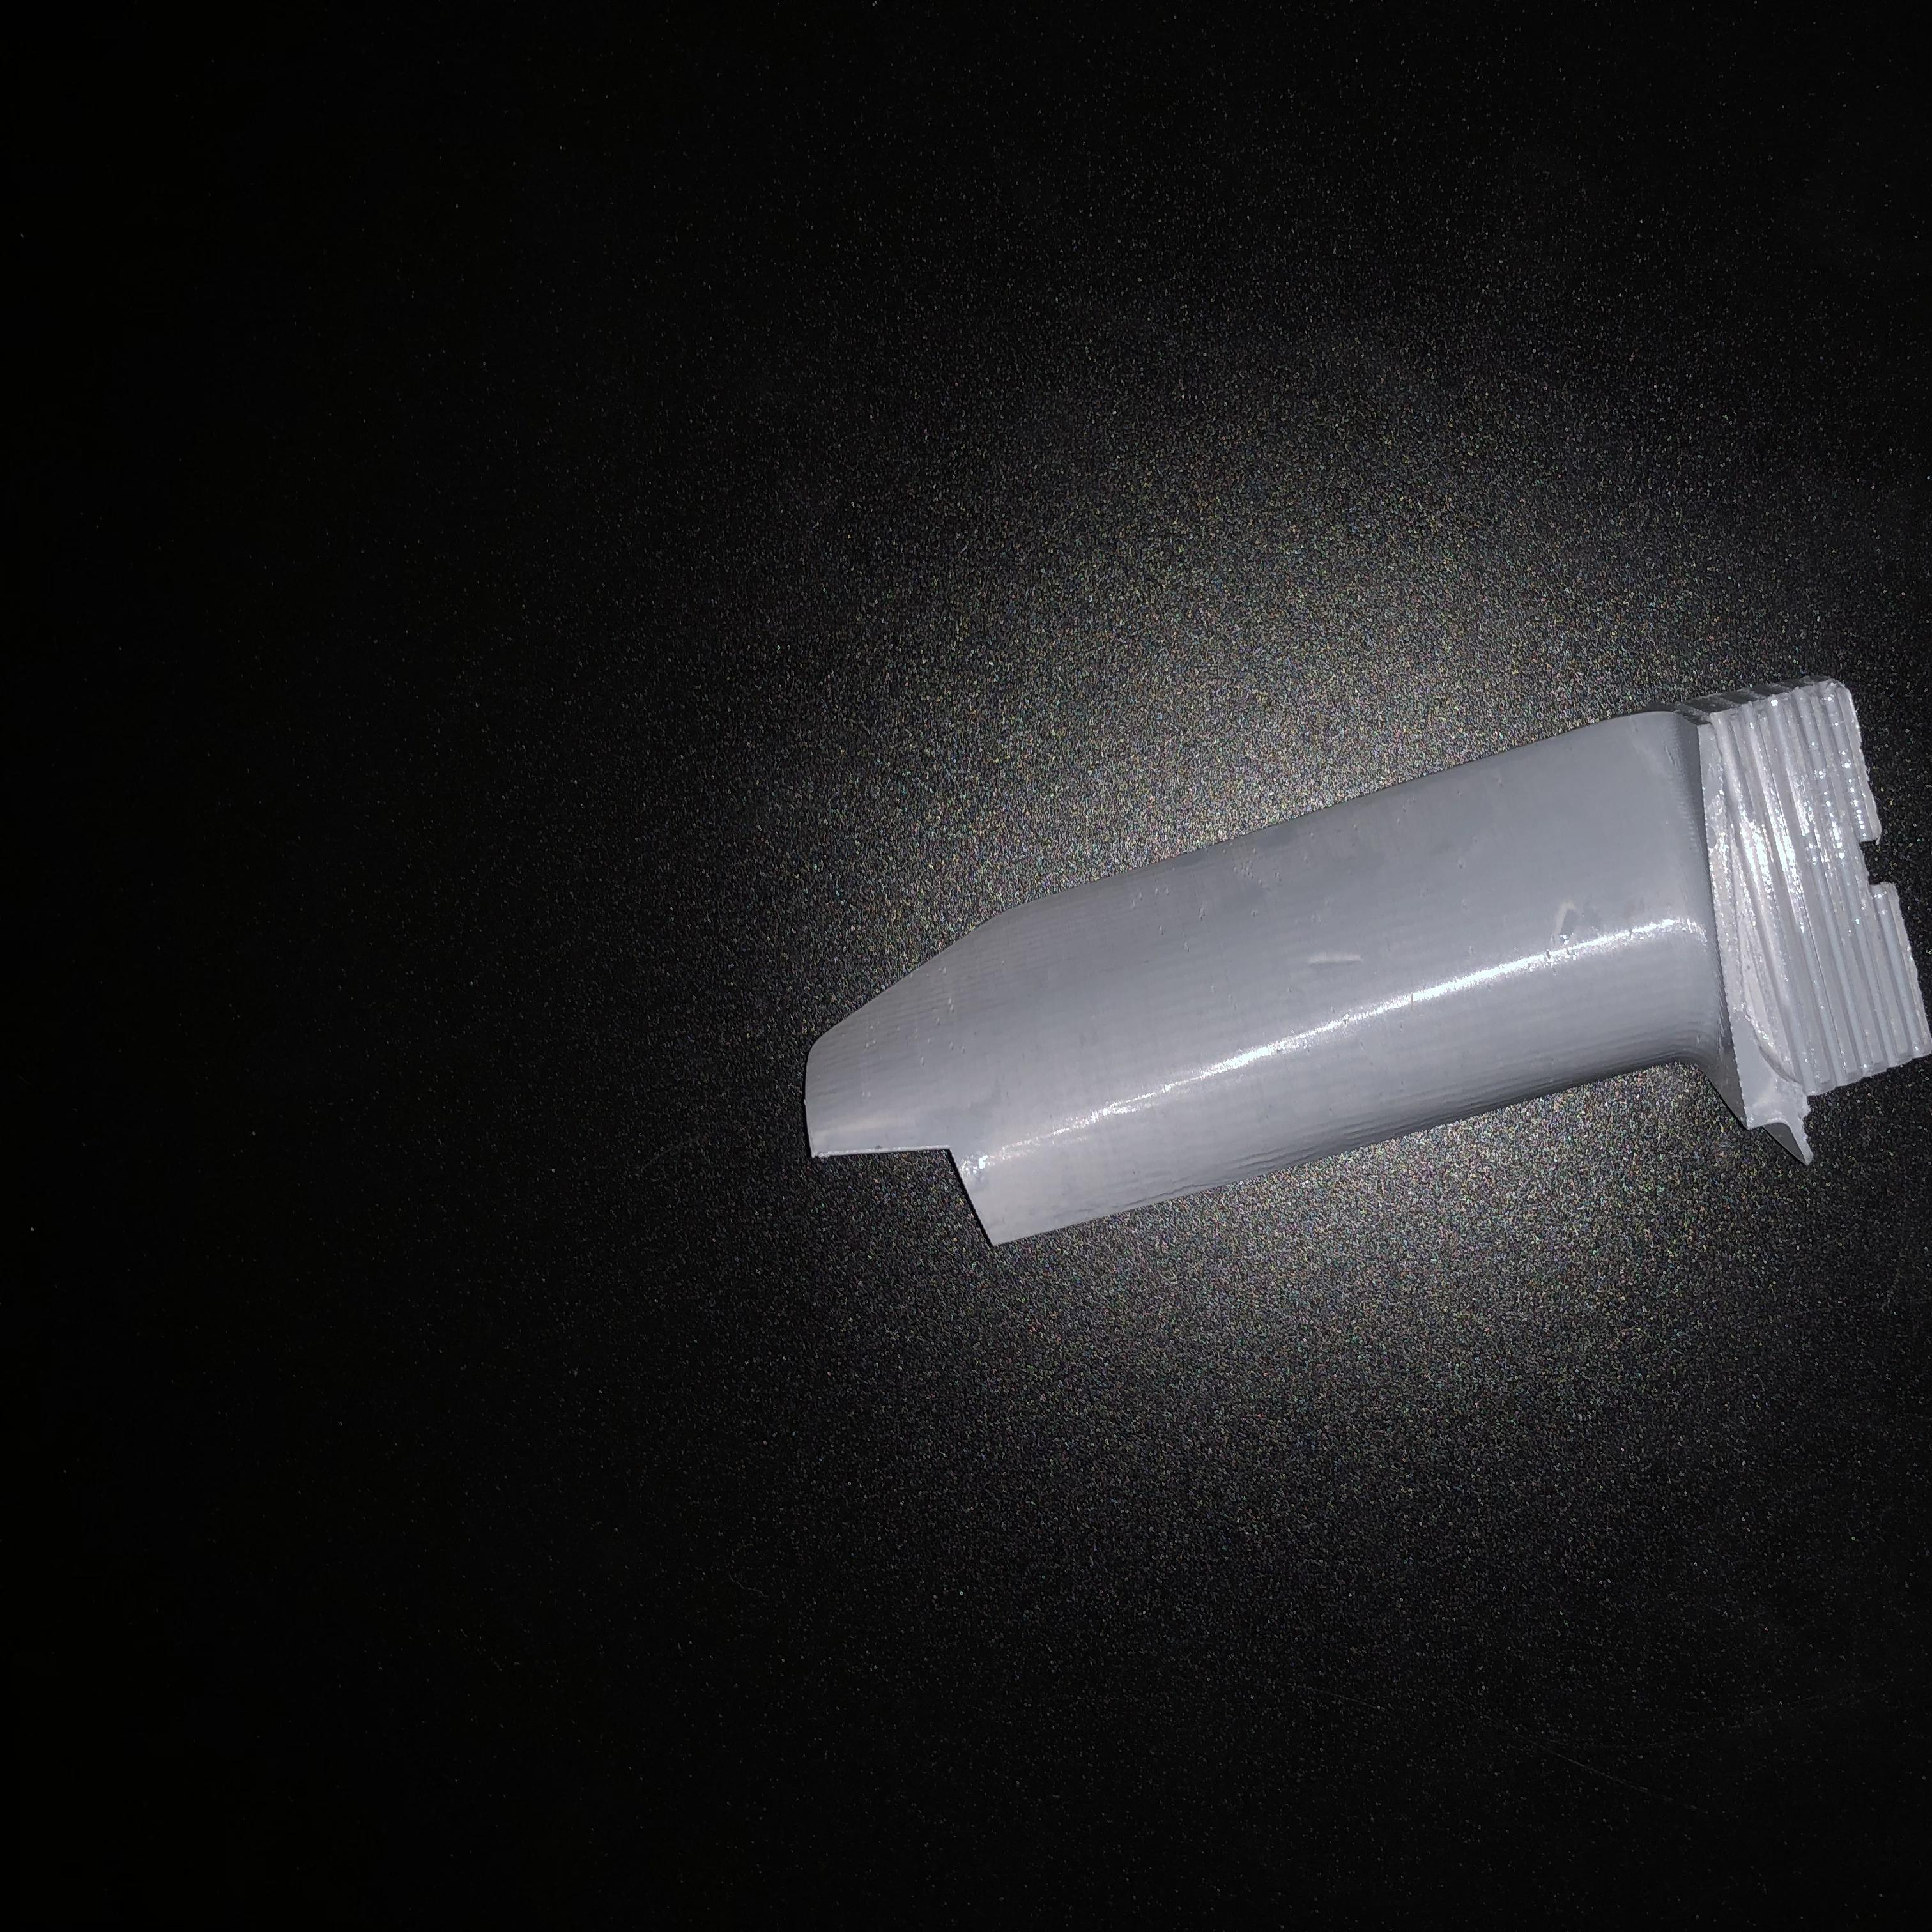fracture: (809, 1125, 1019, 1249)
